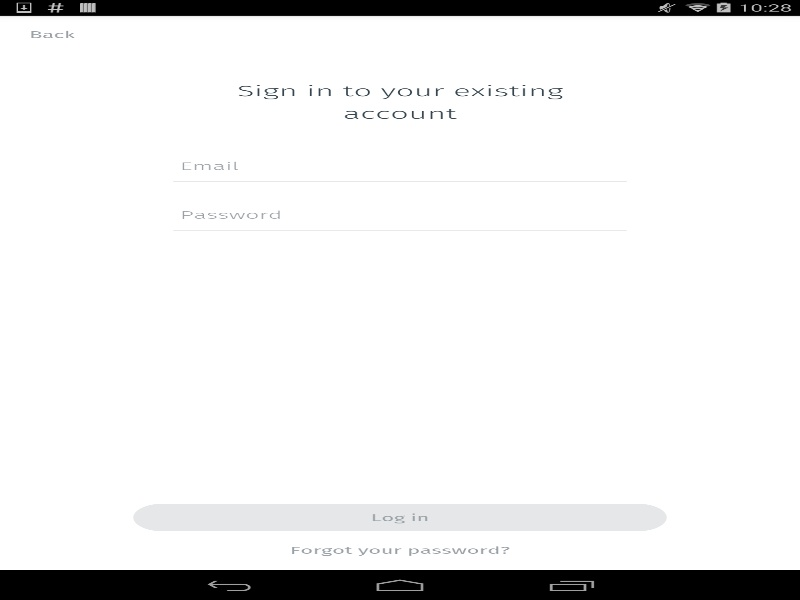Input: (173, 151, 626, 181), (173, 200, 626, 230)
